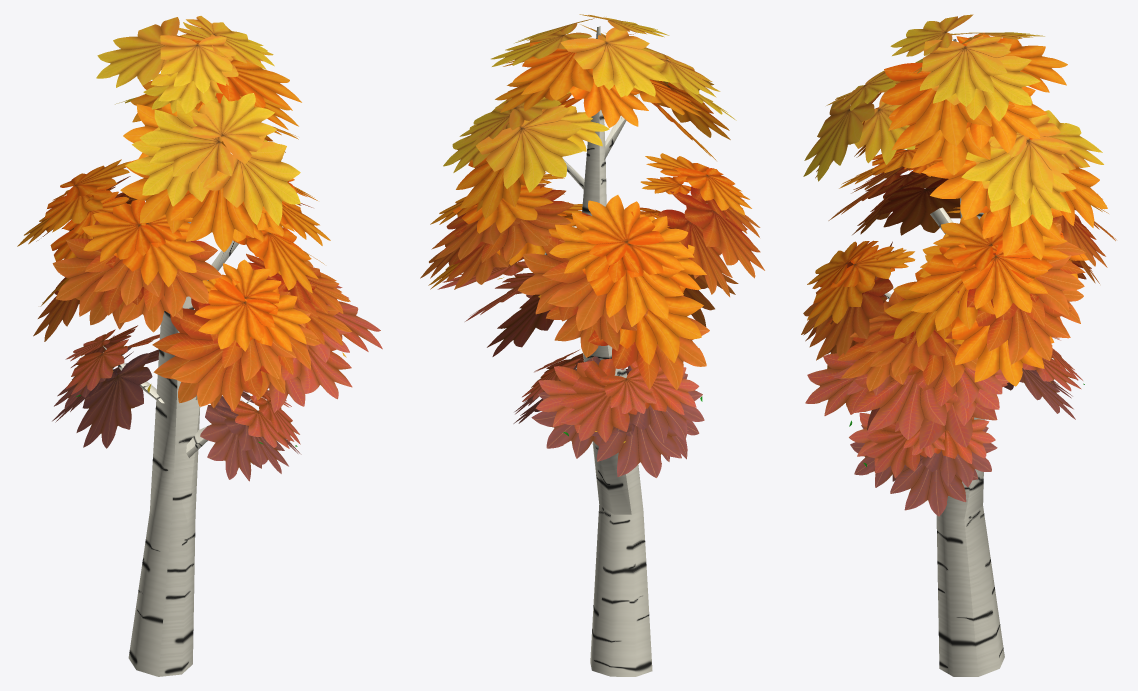
File: VEG0210006.fbx
3 views of the same model, side by side, from view 1: azimuth 30°, elevation 25°; view 2: azimuth 150°, elevation 25°; view 3: azimuth 270°, elevation 25° (orthographic). The views are drawn at different scales.
Parts seen in each view (by area): view 1: smVEG0210006; view 2: smVEG0210006; view 3: smVEG0210006.
Boxes of the visible parts, x1,y1,x2,y2 form: smVEG0210006: [17, 16, 382, 676]; smVEG0210006: [420, 14, 764, 676]; smVEG0210006: [801, 14, 1116, 676].
Bounding box in the file's own units: 269 × 518 × 234.
Materials: 2 (2 with a texture image).
